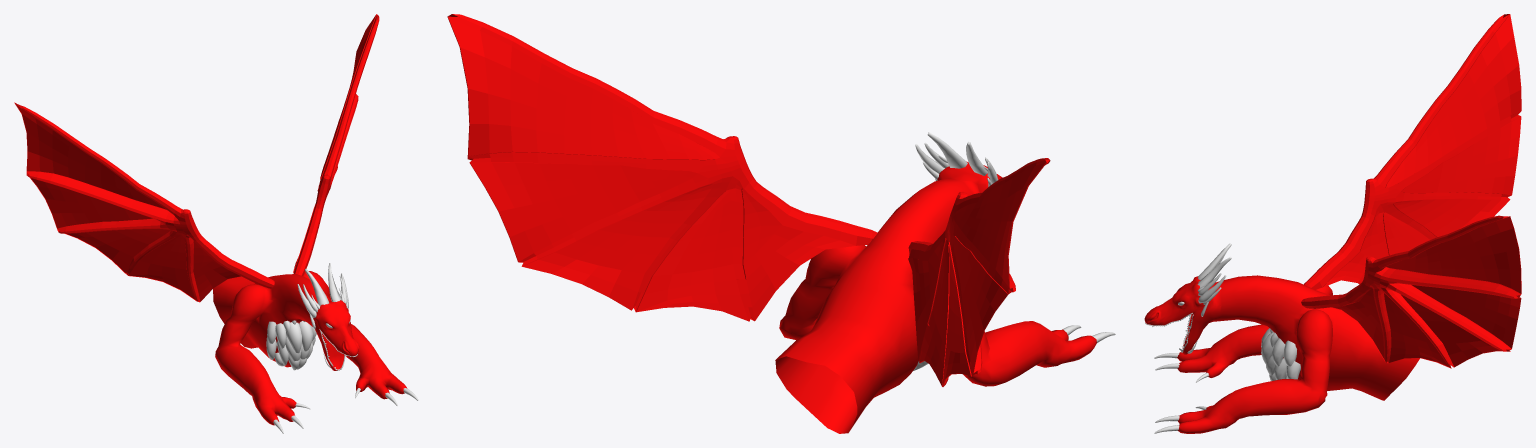
Rendered from Drakan.fbx.
The picture shows the model from 3 angles, left to right: view 1: azimuth 30°, elevation 25°; view 2: azimuth 150°, elevation 25°; view 3: azimuth 270°, elevation 25°; orthographic projection. The views are drawn at different scales.
Parts seen in each view (by area): view 1: alas, body, Cube.008, cuerno; view 2: alas, body, cuerno; view 3: alas, body, cuerno.
Boxes of the visible parts, bbox=[...] form: alas: bbox=[14, 14, 379, 302]; body: bbox=[213, 271, 407, 425]; Cube.008: bbox=[285, 321, 313, 353]; cuerno: bbox=[305, 263, 342, 305]; alas: bbox=[447, 14, 1050, 386]; body: bbox=[775, 161, 1096, 433]; cuerno: bbox=[927, 132, 987, 175]; alas: bbox=[1301, 14, 1521, 368]; body: bbox=[1144, 275, 1419, 433]; cuerno: bbox=[1197, 243, 1231, 287].
Size of the model in its own units: 2934 by 1927 by 2308.
